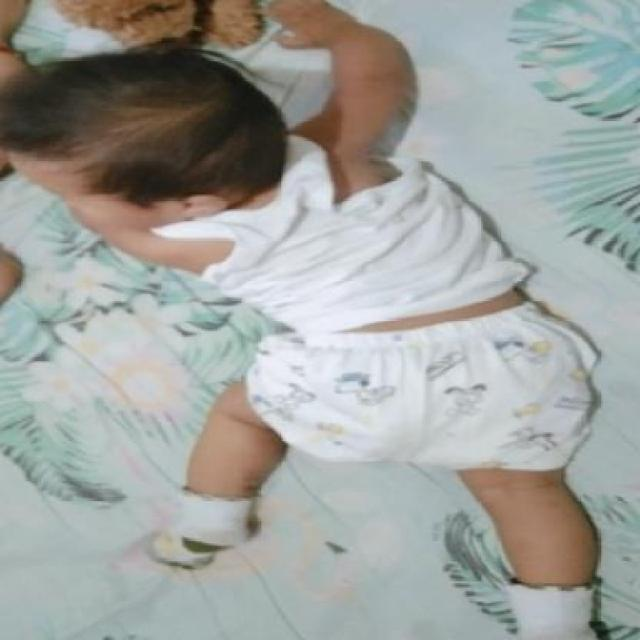baby: (1, 39, 602, 638)
